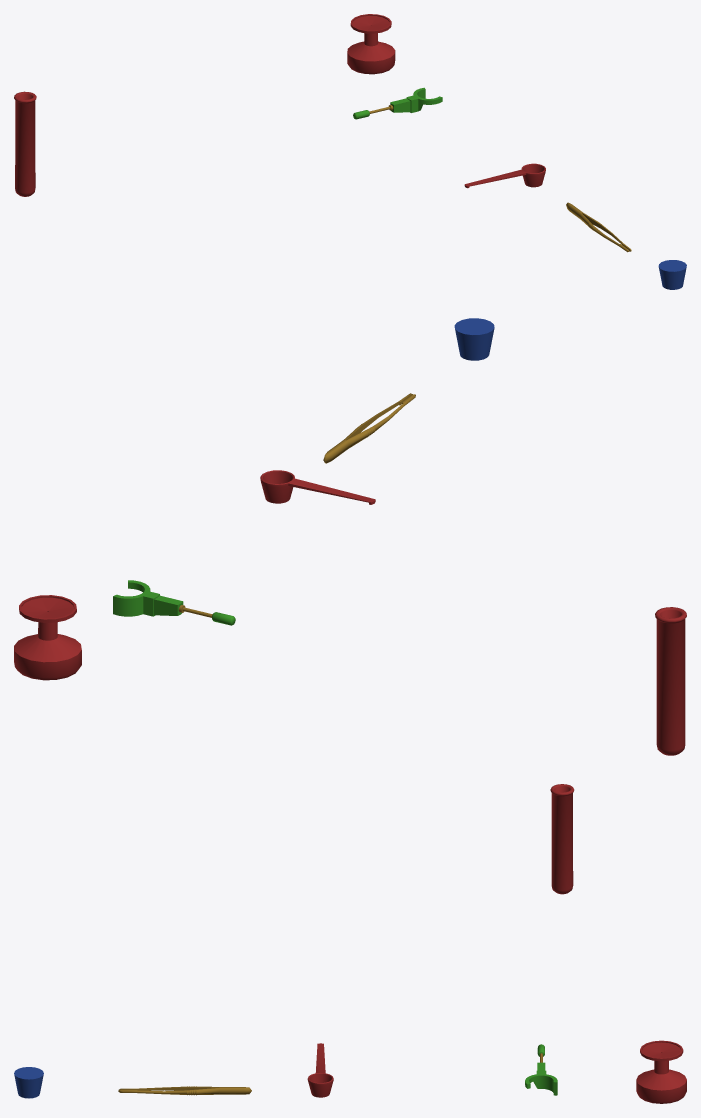
Rendered from small_objects.FBX.
3 renders of one model, top to bottom at view 1: azimuth 30°, elevation 25°; view 2: azimuth 150°, elevation 25°; view 3: azimuth 270°, elevation 25°, orthographic. The views are drawn at different scales.
Visible parts, largest first — view 1: Gorelka, 002, Misc_HotCap, Misc_MeasuringSpoon, Misc_Probka, Misc_Pincet; view 2: 002, Gorelka, Misc_HotCap, Misc_MeasuringSpoon, Misc_Probka, Misc_Pincet; view 3: 002, Gorelka, Misc_Pincet, Misc_MeasuringSpoon, Misc_Probka, Misc_HotCap.
Boxes of the visible parts, x1,y1,x2,y2 form: Gorelka: [347, 14, 395, 74]; 002: [14, 91, 36, 196]; Misc_HotCap: [353, 87, 442, 119]; Misc_MeasuringSpoon: [464, 163, 545, 188]; Misc_Probka: [658, 260, 686, 289]; Misc_Pincet: [566, 202, 631, 252]; 002: [655, 607, 686, 755]; Gorelka: [14, 595, 81, 680]; Misc_HotCap: [113, 580, 235, 625]; Misc_MeasuringSpoon: [260, 470, 375, 504]; Misc_Probka: [454, 318, 494, 360]; Misc_Pincet: [323, 393, 415, 463]; 002: [550, 784, 574, 894]; Gorelka: [636, 1040, 686, 1103]; Misc_Pincet: [118, 1086, 251, 1095]; Misc_MeasuringSpoon: [307, 1043, 333, 1097]; Misc_Probka: [14, 1067, 43, 1098]; Misc_HotCap: [525, 1044, 557, 1095].
Bounding box in the file's own units: 1.51 × 0.3388 × 1.98.
